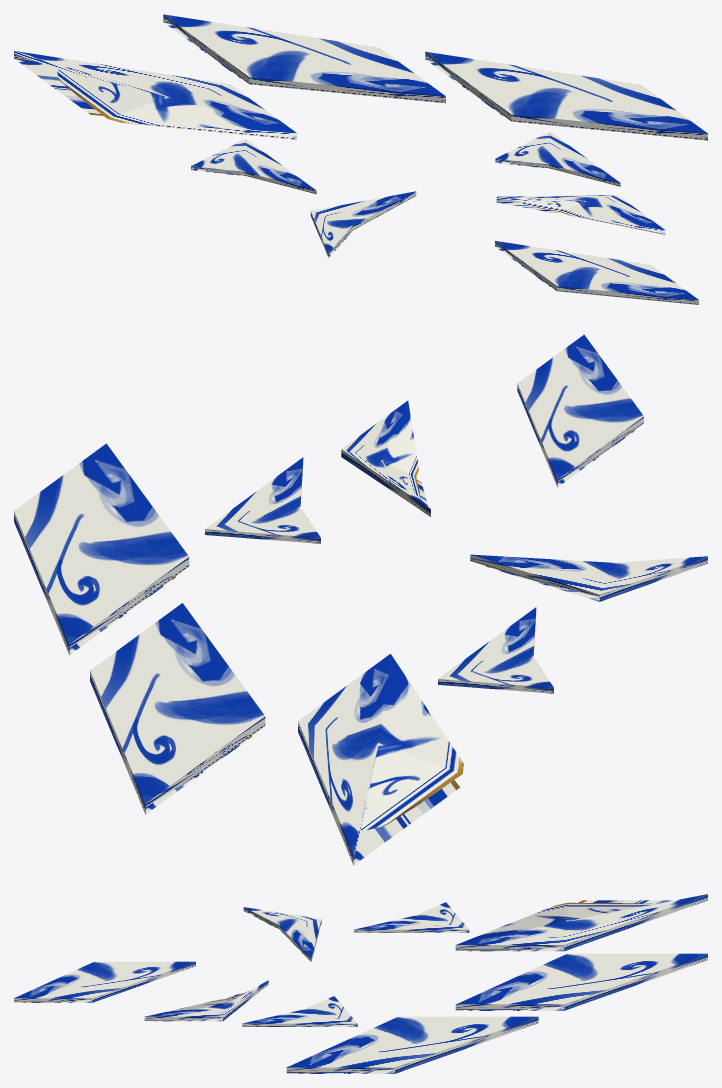
File: Shards.fbx
3 views of the same model, one above another, from view 1: azimuth 30°, elevation 25°; view 2: azimuth 150°, elevation 25°; view 3: azimuth 270°, elevation 25° (orthographic). The views are drawn at different scales.
Parts seen in each view (by area): view 1: pCube1325, pCube1320, pCube1327, pCube1323, pCube1326, pCube1328, pCube1321, pCube1322; view 2: pCube1320, pCube1325, pCube1327, pCube1323, pCube1322, pCube1328, pCube1321, pCube1326; view 3: pCube1325, pCube1320, pCube1327, pCube1323, pCube1328, pCube1321, pCube1326, pCube1322.
Part boxes in pixels (x1=…): pCube1325: x1=425, y1=51, x2=707, y2=140; pCube1320: x1=163, y1=14, x2=445, y2=103; pCube1327: x1=14, y1=51, x2=296, y2=139; pCube1323: x1=495, y1=241, x2=698, y2=304; pCube1326: x1=496, y1=195, x2=665, y2=234; pCube1328: x1=495, y1=131, x2=620, y2=186; pCube1321: x1=191, y1=139, x2=316, y2=194; pCube1322: x1=310, y1=191, x2=416, y2=257; pCube1320: x1=90, y1=603, x2=265, y2=814; pCube1325: x1=14, y1=443, x2=189, y2=654; pCube1327: x1=298, y1=654, x2=464, y2=865; pCube1323: x1=517, y1=334, x2=643, y2=487; pCube1322: x1=470, y1=554, x2=707, y2=601; pCube1328: x1=205, y1=457, x2=320, y2=543; pCube1321: x1=438, y1=607, x2=553, y2=693; pCube1326: x1=341, y1=400, x2=430, y2=516; pCube1325: x1=286, y1=1016, x2=538, y2=1073; pCube1320: x1=455, y1=953, x2=707, y2=1010; pCube1327: x1=455, y1=894, x2=707, y2=951; pCube1323: x1=14, y1=961, x2=195, y2=1002; pCube1328: x1=242, y1=996, x2=357, y2=1026; pCube1321: x1=354, y1=902, x2=469, y2=932; pCube1326: x1=144, y1=980, x2=268, y2=1021; pCube1322: x1=243, y1=907, x2=321, y2=961.
Size of the model in its own units: 81.1 by 1.4 by 137.
